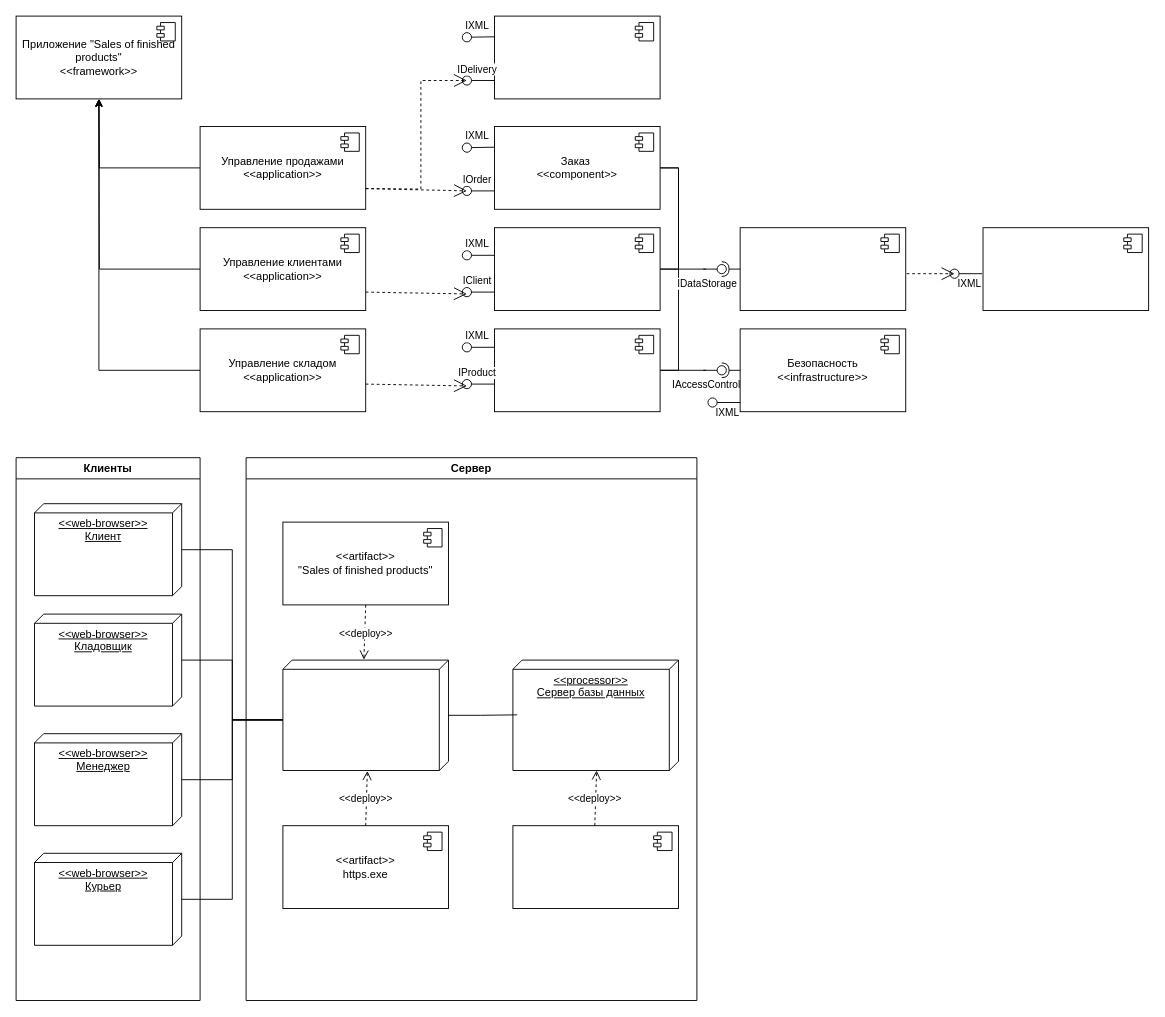
This 1165x1017 diagram has some shape labels left out. Here are the shapes that lost their labels. From the top down, the centre of each, then its label:
(577,57): Доставка <<component>>
(577,268): Клиент <<component>>
(822,268): Хранилище <<infrastructure>>
(1065,268): БД "Sales of finished products" <<datastore>>
(577,370): Продукция <<component>>
(365,714): <<processor>> Сервер приложения
(595,866): <<artifact>> datagrip.exe
